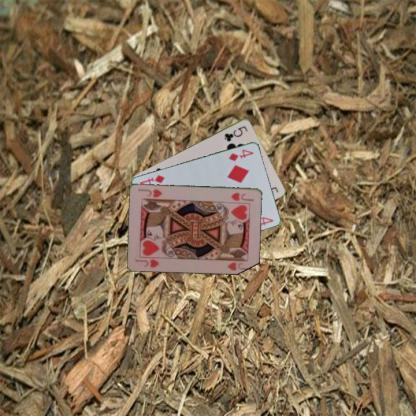4d: (226, 146, 255, 162)
5c: (221, 123, 249, 143)
Jh: (133, 254, 163, 268), (228, 190, 256, 202)
